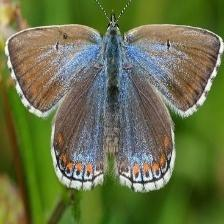butterfly: (8, 16, 224, 192)
